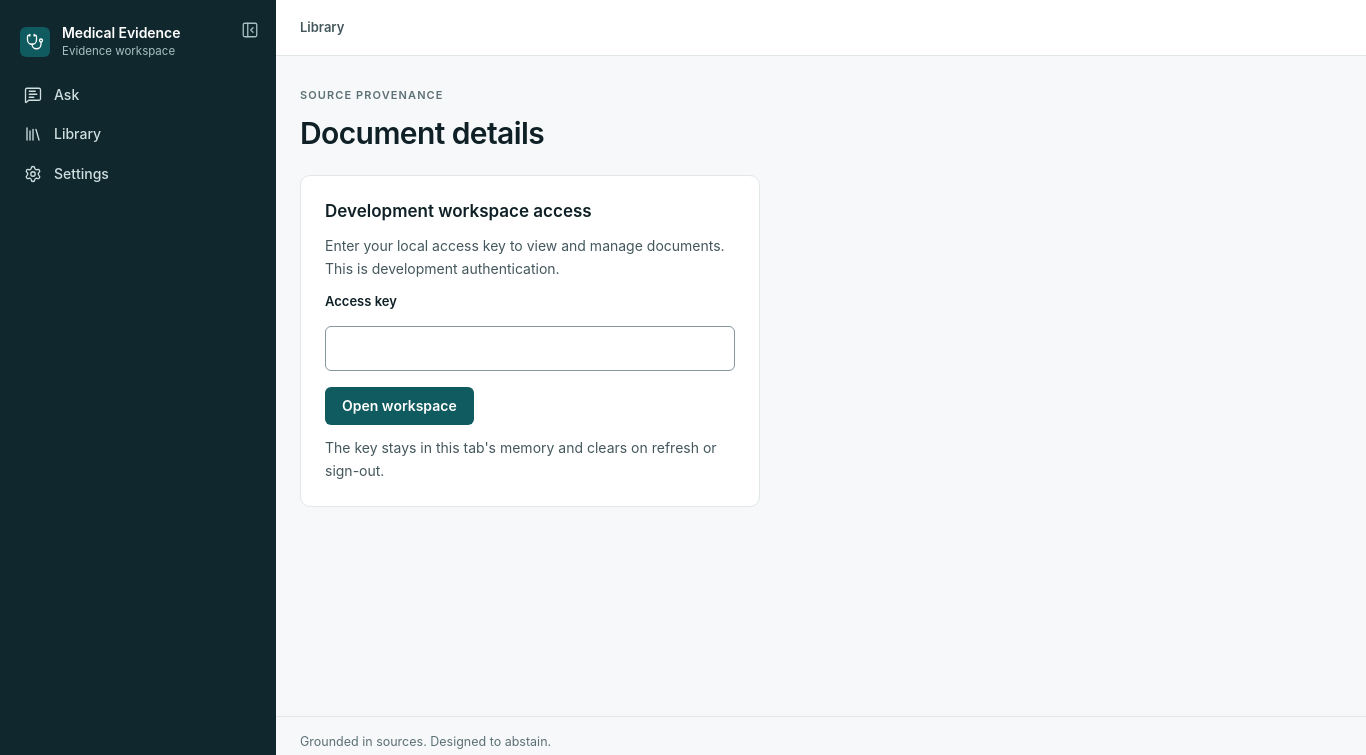
Test case: processing progress › shows each stage as completed, running or not started, in words
Type "local-test-key" into the password field labelled "Access key" at coordinates (530, 349), box [325, 326, 735, 371]
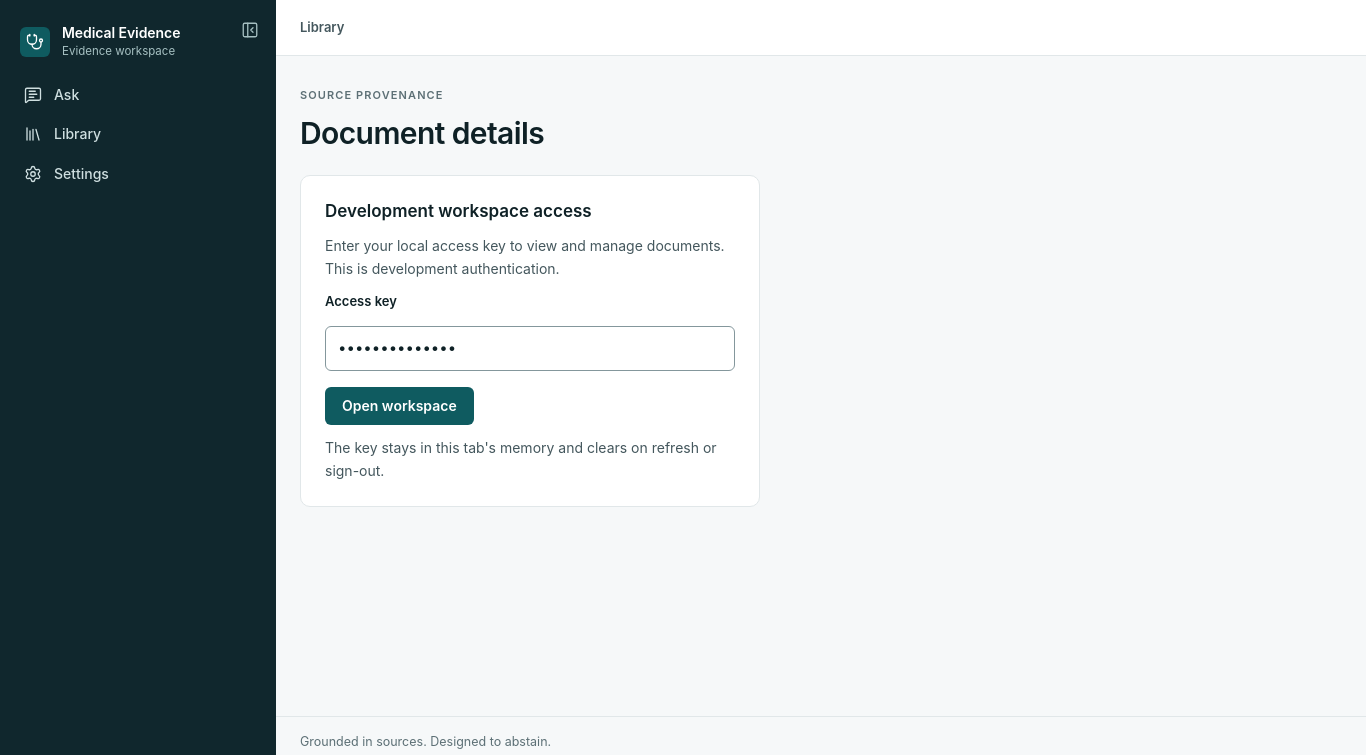
Click the button "Open workspace" at coordinates (399, 406), box [325, 387, 474, 425]
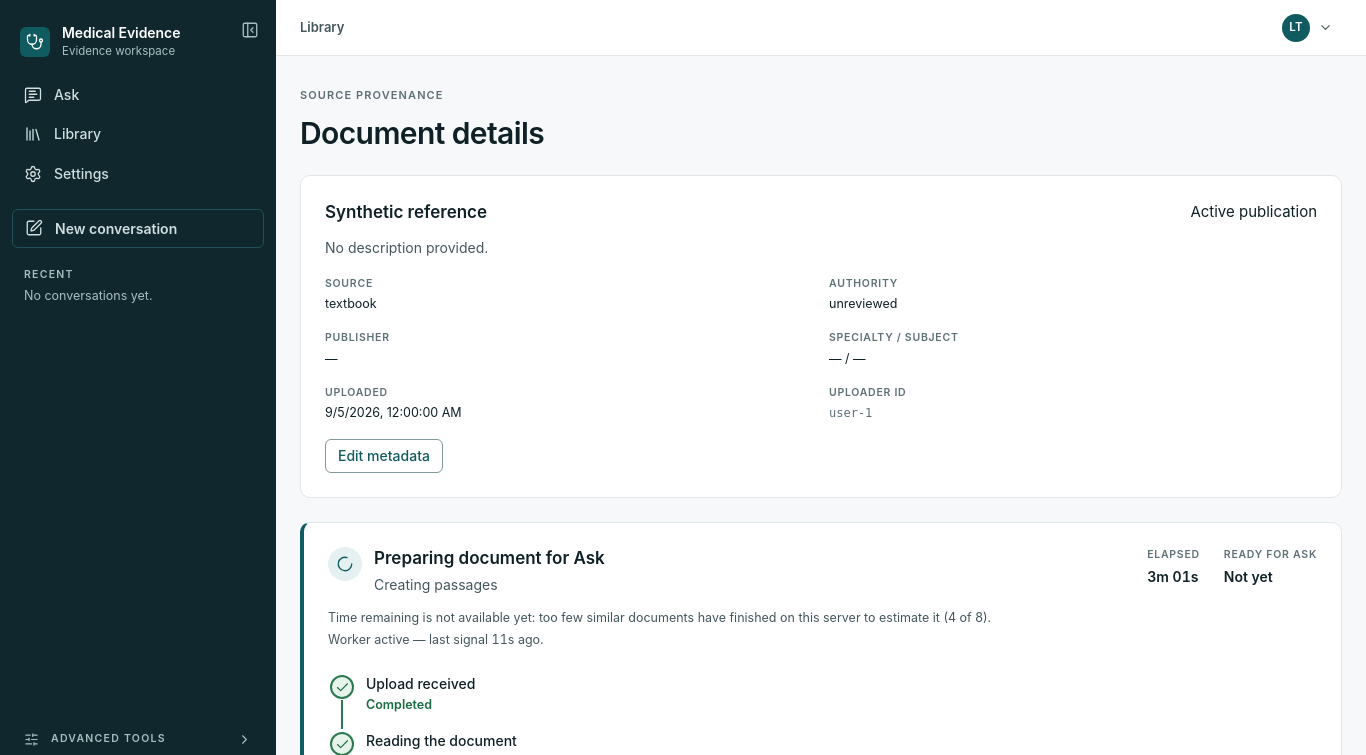
expect the button named "Account and workspace" is shown: met, box [1277, 8, 1342, 46]
expect the text "Creating passages" is shown: met, box [374, 576, 498, 593]
